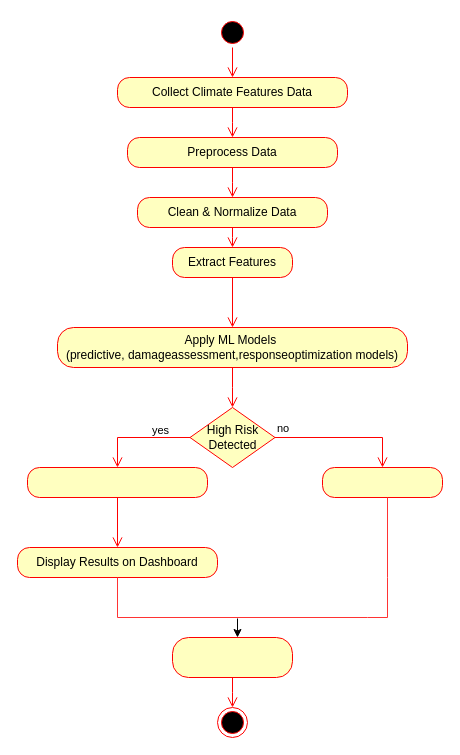
Image size: 460x755. Some labels were removed from this diagram. The shapes that lost their labels are listed below. From the top down, each one's box as (x1, y1, x2, y2) in pixels, then its label:
(26, 466, 208, 498): Classify as Warning / Severe
(322, 466, 442, 498): Classify as Normal
(172, 636, 292, 678): Activity
